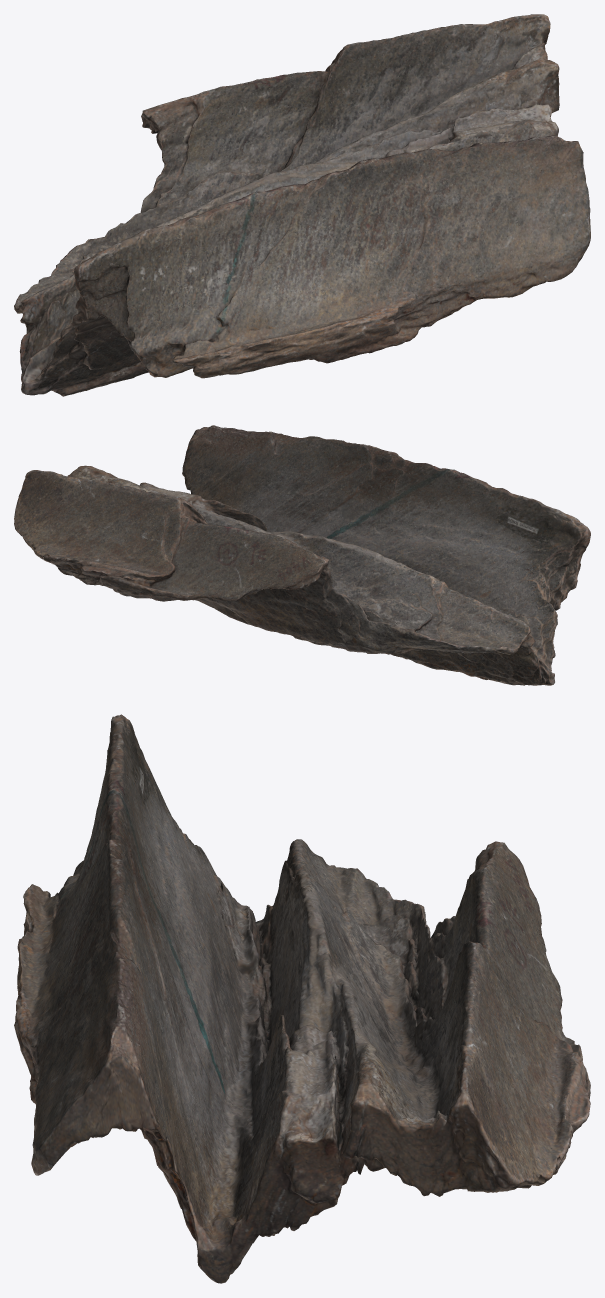
Rendered from main.glb.
3 views of the same model, one above another, from view 1: azimuth 30°, elevation 25°; view 2: azimuth 150°, elevation 25°; view 3: azimuth 270°, elevation 25° (orthographic). The views are drawn at different scales.
Parts seen in each view (by area): view 1: Metashape to blender; view 2: Metashape to blender; view 3: Metashape to blender.
Part boxes in pixels (box(x1,y1,x2,y2)): Metashape to blender: box(14, 14, 590, 396); Metashape to blender: box(14, 425, 590, 685); Metashape to blender: box(14, 714, 590, 1283).
Size of the model in its own units: 0.3166 by 0.1059 by 0.1849.
1 material, 1 textured.
